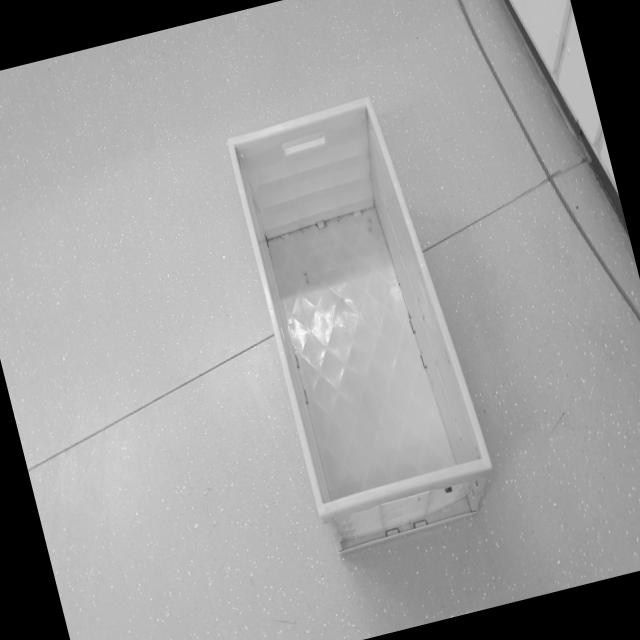box: (212, 61, 512, 584)
